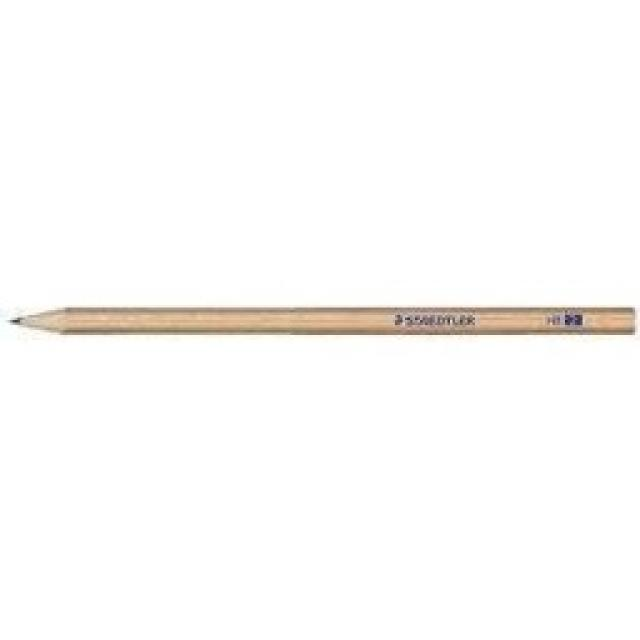pencil: (5, 302, 637, 340)
